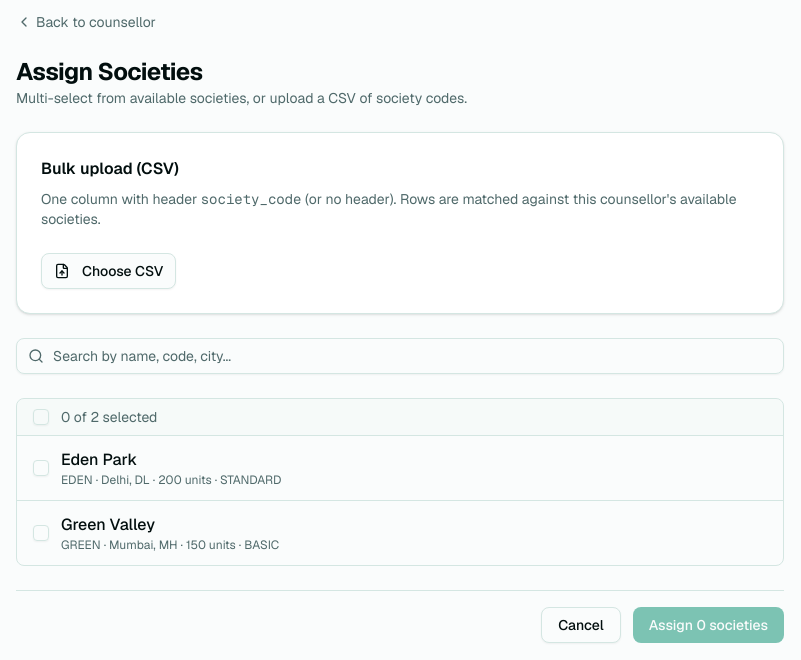
AssignSocietiesPage › toggles a row OFF when clicked again
Expected: the text "Eden Park" is shown, [61,449,137,470]
Click the checkbox next to "Eden Park": (41,468) [33,460,49,476]
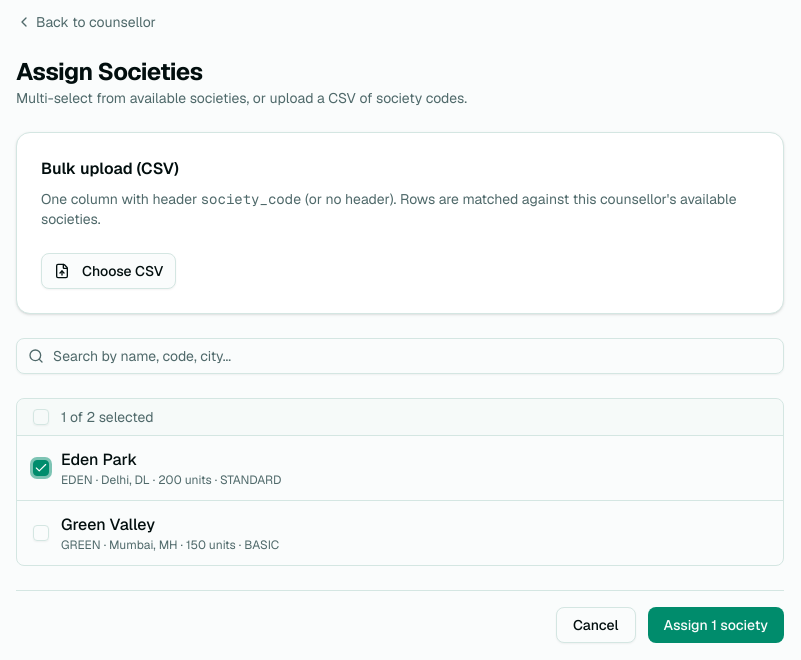
Now the text "1 of 2 selected" is shown, box [61,407,154,427]
Click the checkbox next to "Eden Park": (41,468) [33,460,49,476]
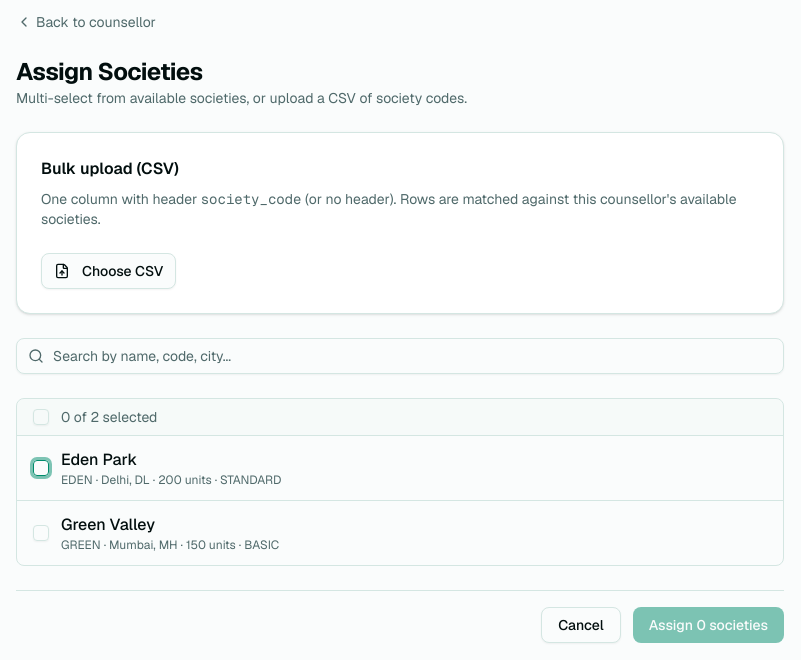
Now the text "0 of 2 selected" is shown, box [61,407,157,427]
